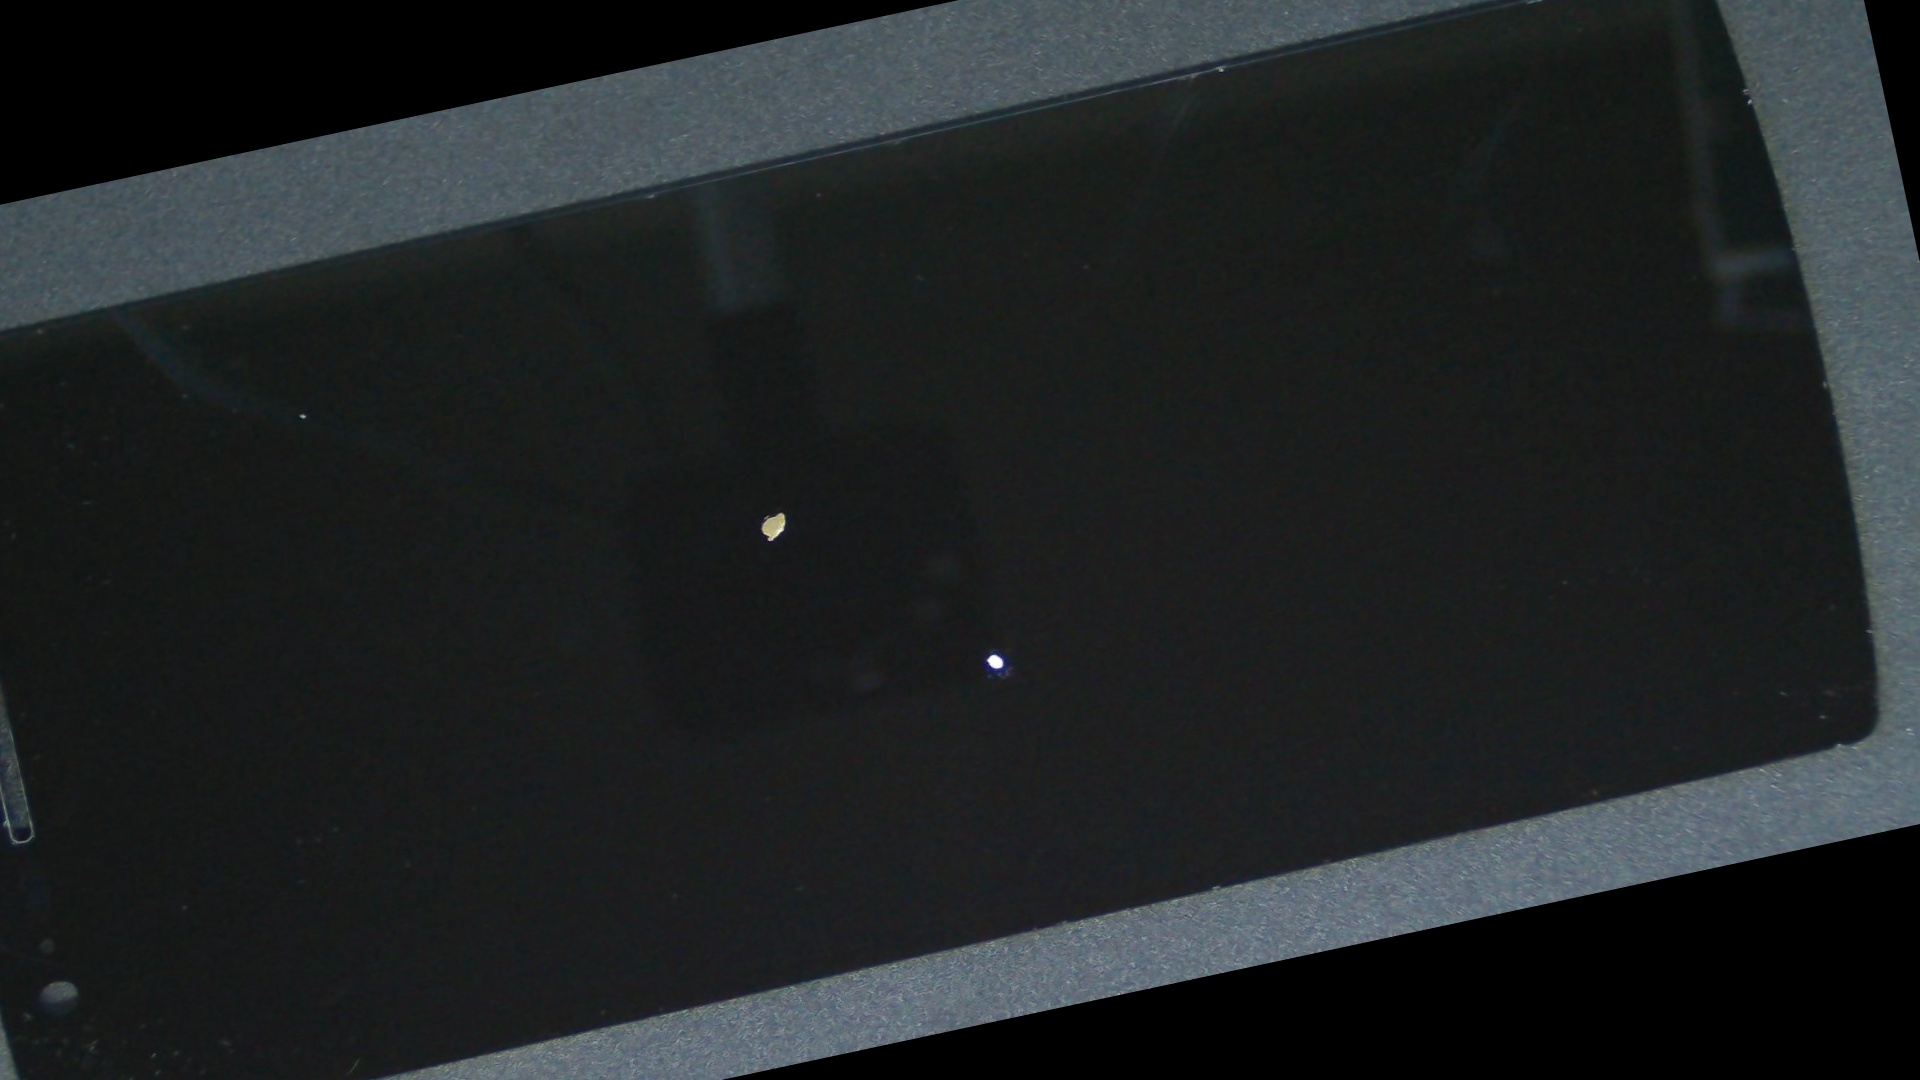oil: (368, 216, 1623, 1080), (260, 183, 1300, 836)
